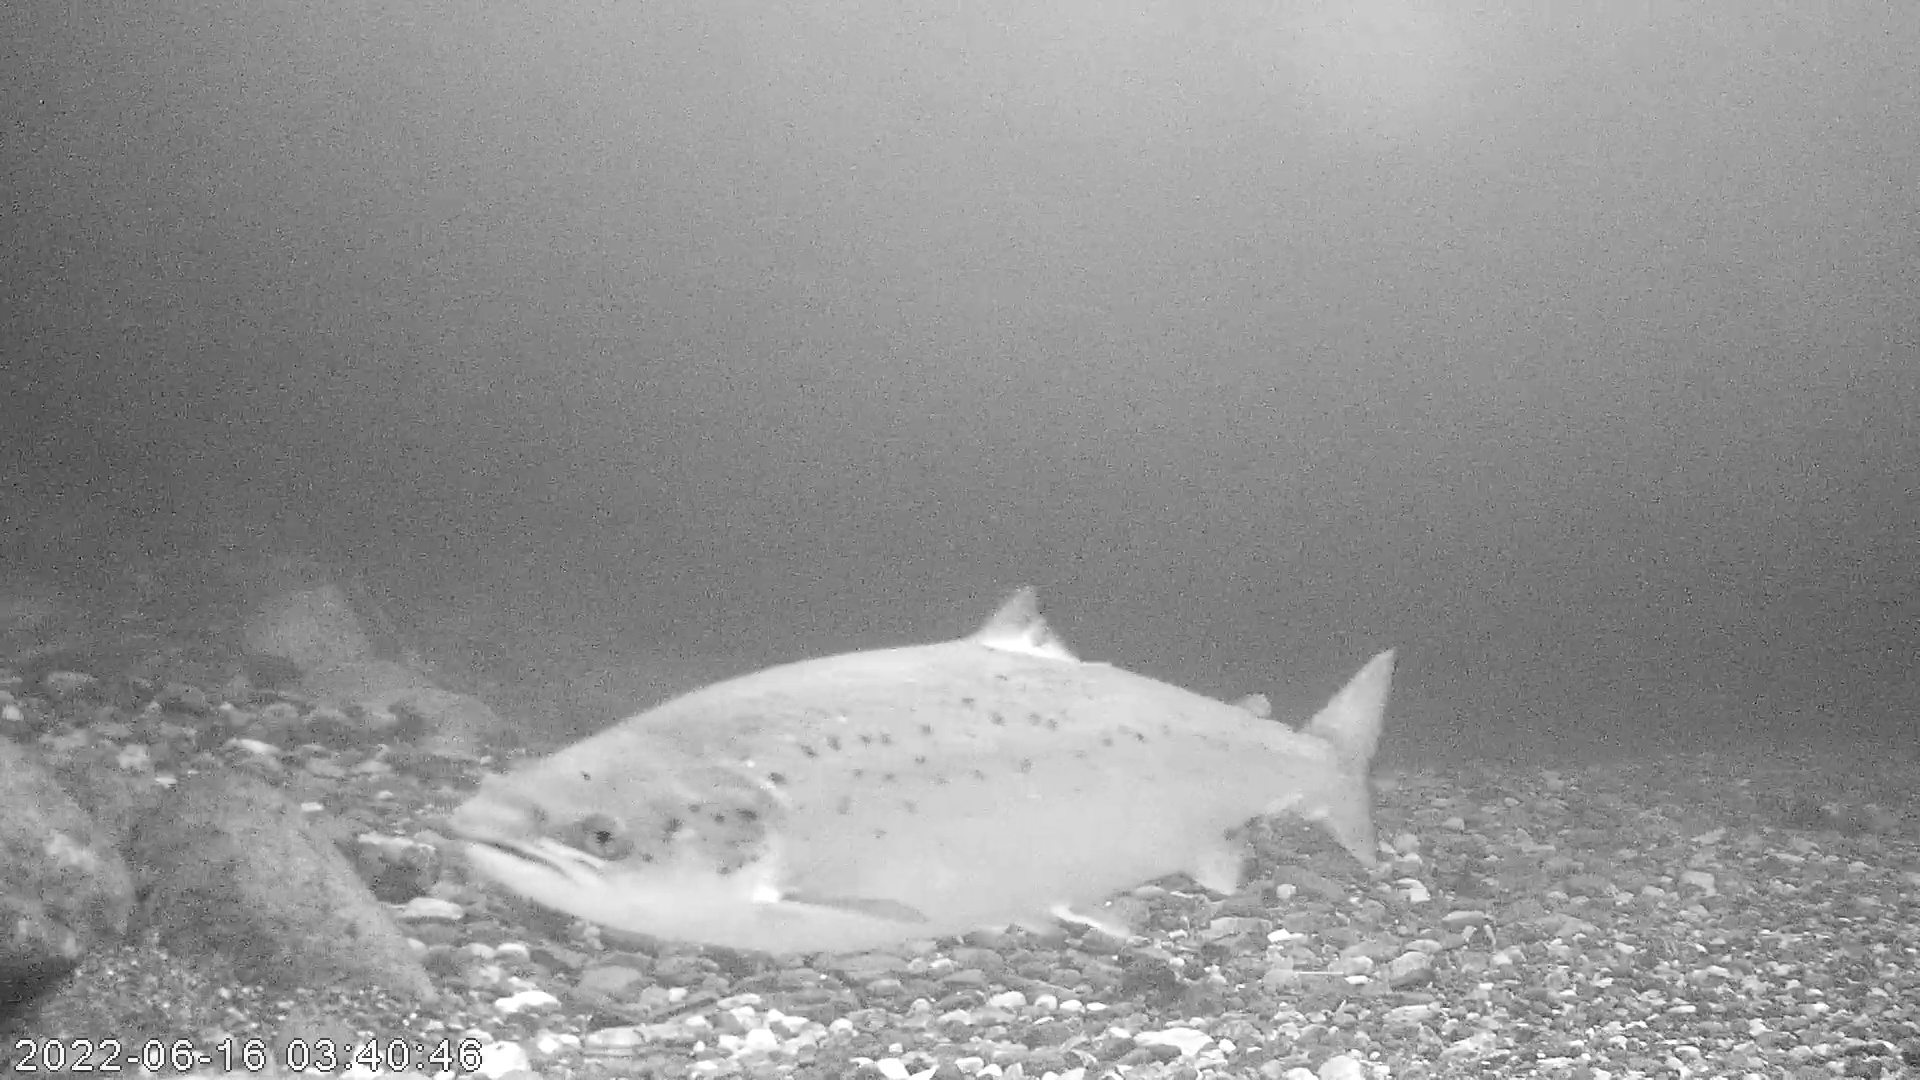salmon: (448, 582, 1402, 959)
